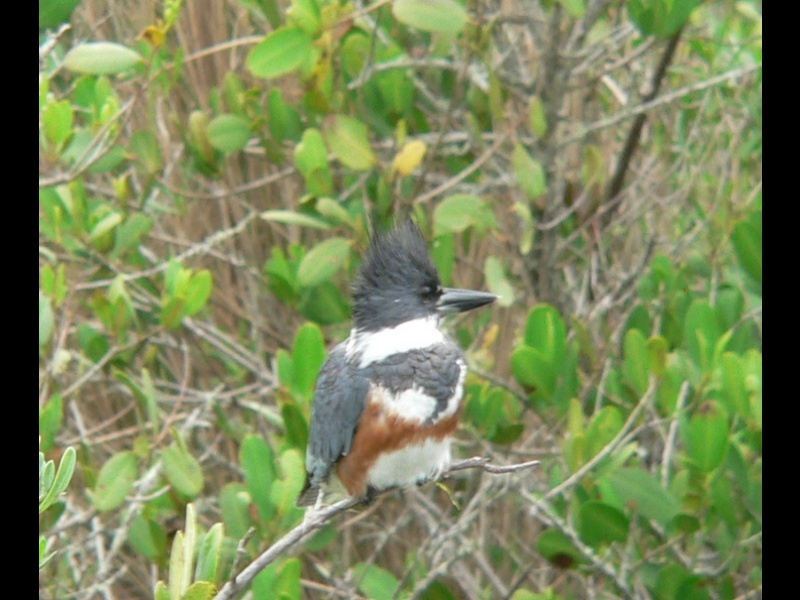kingfisher: (297, 215, 500, 515)
